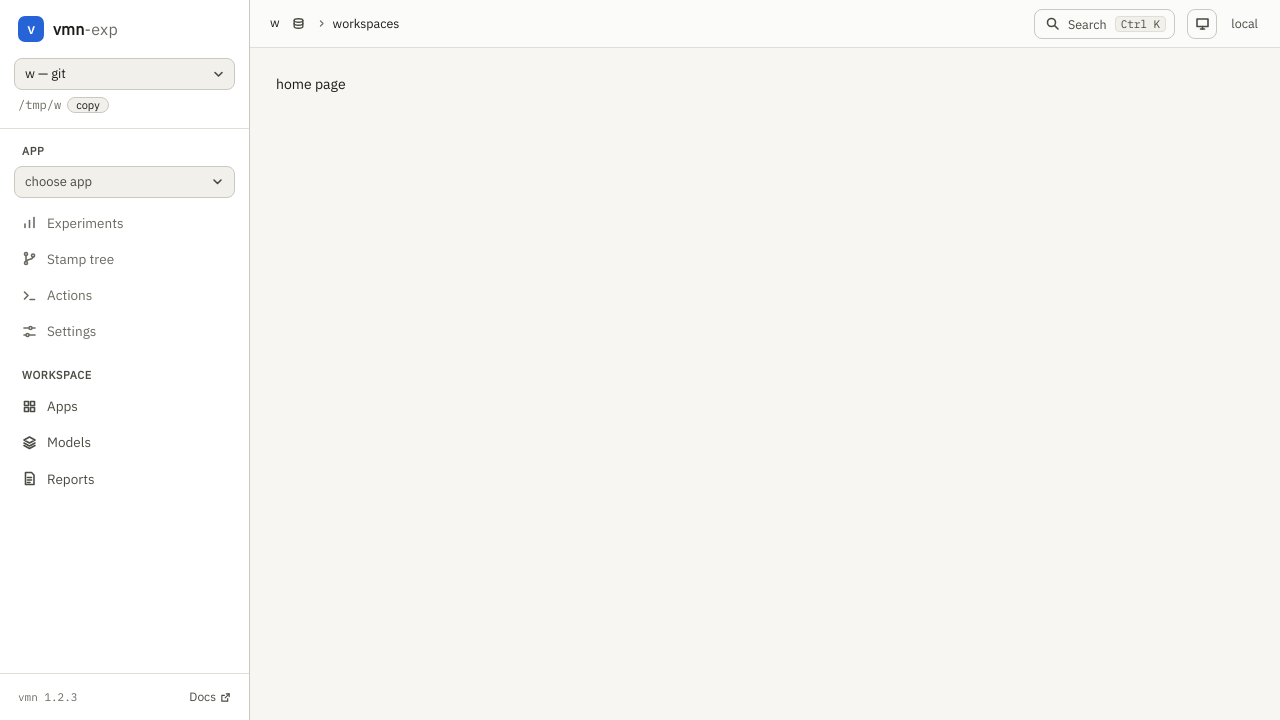
command palette › opens from the topbar's search button
This screenshot has width=1280, height=720.
Expected: the text "home page" is shown, [276,75,346,93]
Click the button "Search Ctrl K": (1105, 24) [1034,8,1175,38]
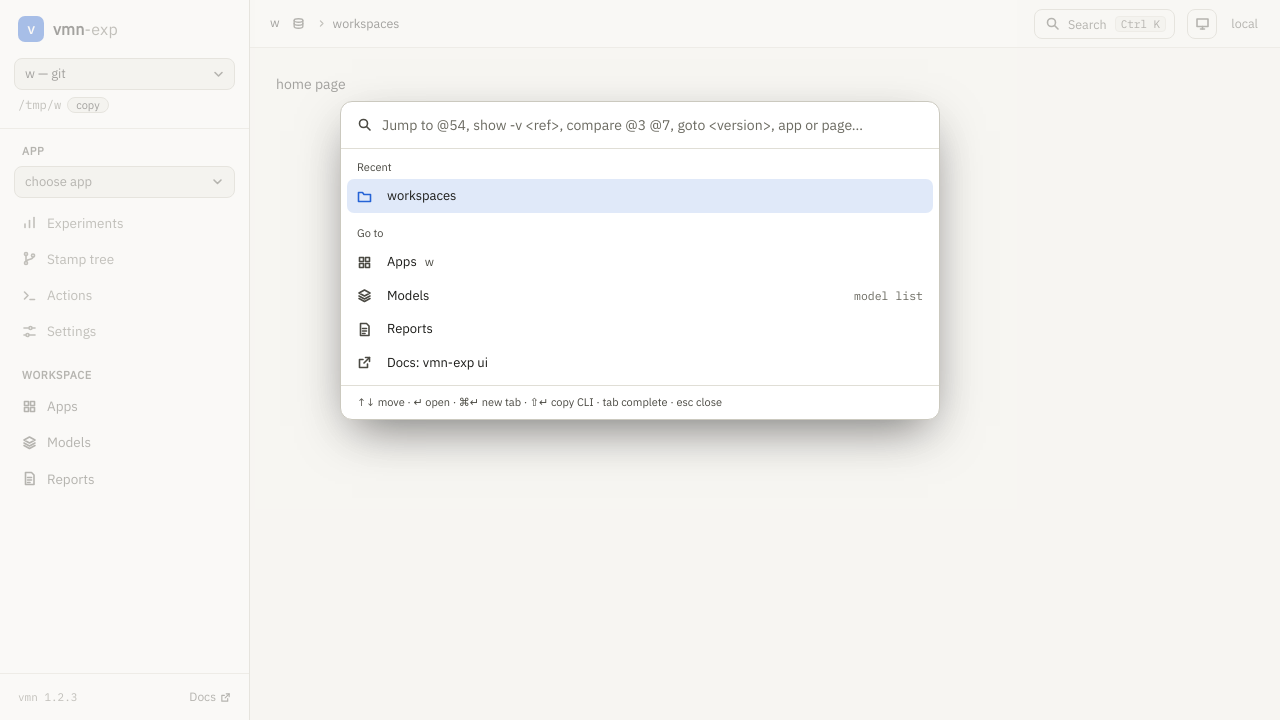
Now the dialog named "Command palette" is shown, box [340,101,940,420]
